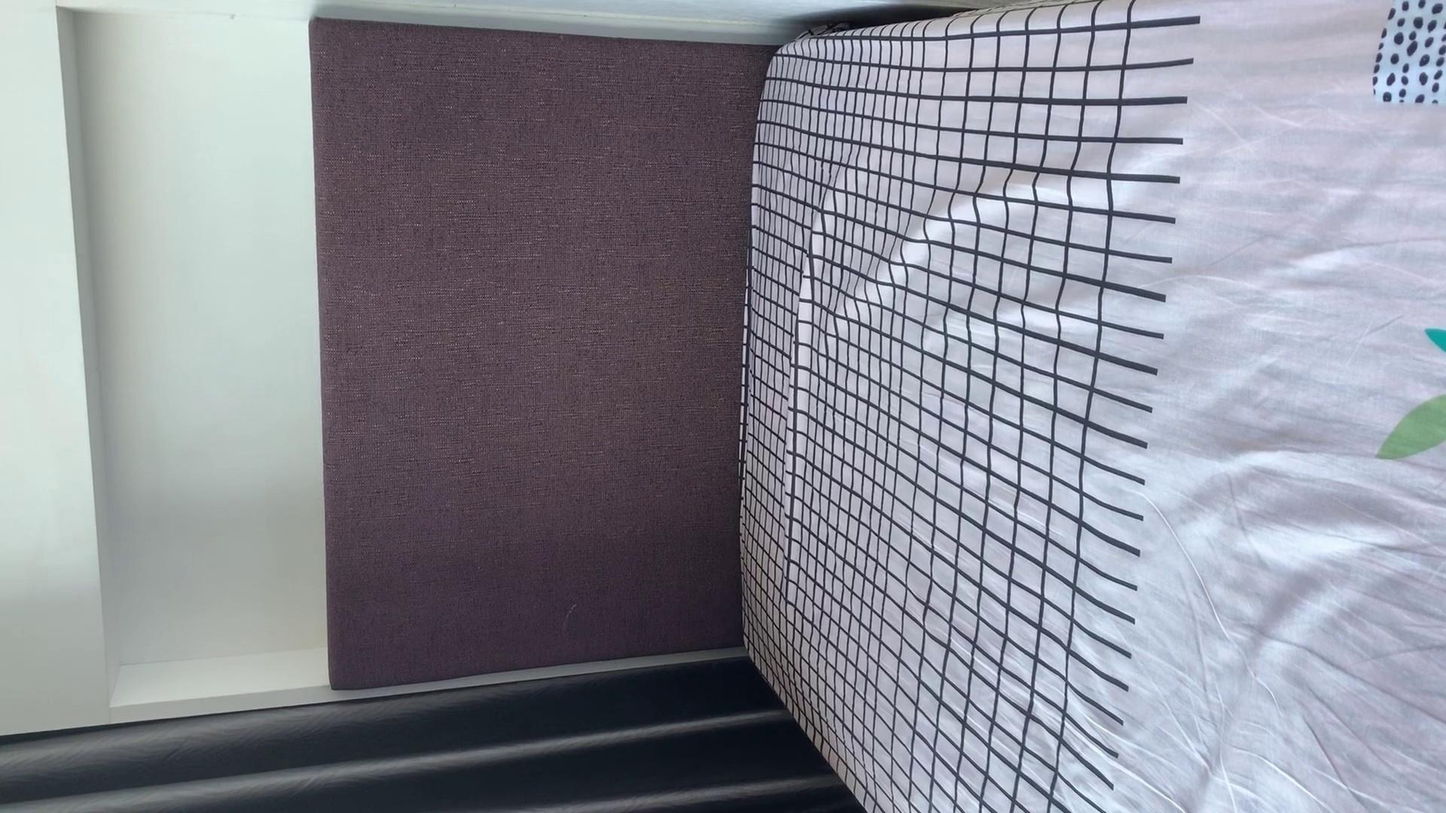bed: (279, 5, 1446, 813)
